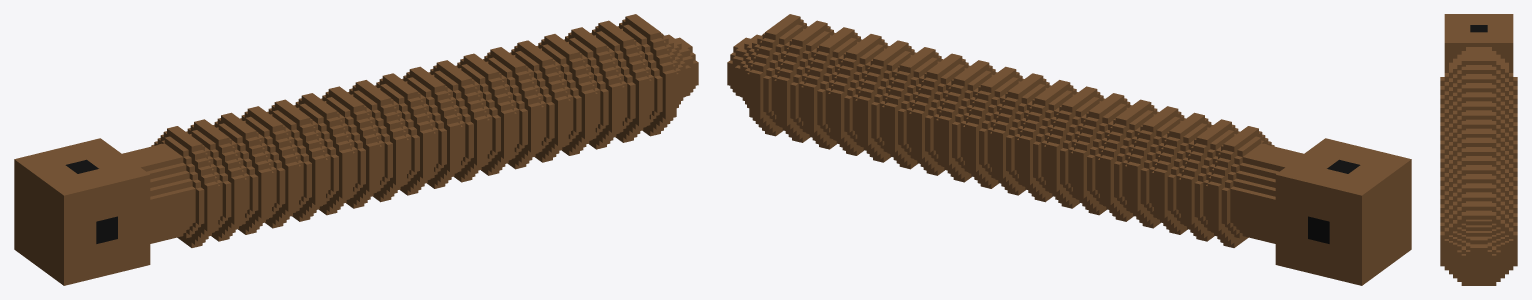
File: giant_wood_screw.glb
3 views of the same model, side by side, from view 1: azimuth 30°, elevation 25°; view 2: azimuth 150°, elevation 25°; view 3: azimuth 270°, elevation 25° (orthographic). The views are drawn at different scales.
Parts seen in each view (by area): view 1: giant_wood_screw:compound; view 2: giant_wood_screw:compound; view 3: giant_wood_screw:compound.
Boxes of the visible parts, x1,y1,x2,y2 form: giant_wood_screw:compound: [14, 14, 698, 285]; giant_wood_screw:compound: [727, 14, 1411, 285]; giant_wood_screw:compound: [1440, 14, 1517, 285].
Bounding box in the file's own units: 1.2 × 0.18 × 0.18.
